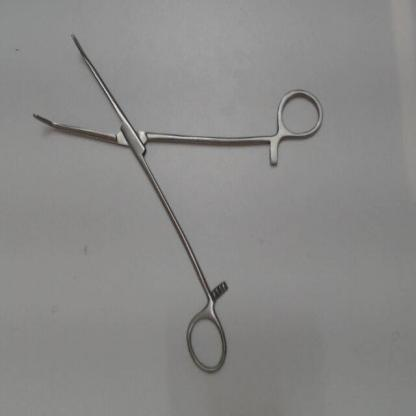Lahey Forceps: (25, 19, 333, 387)
